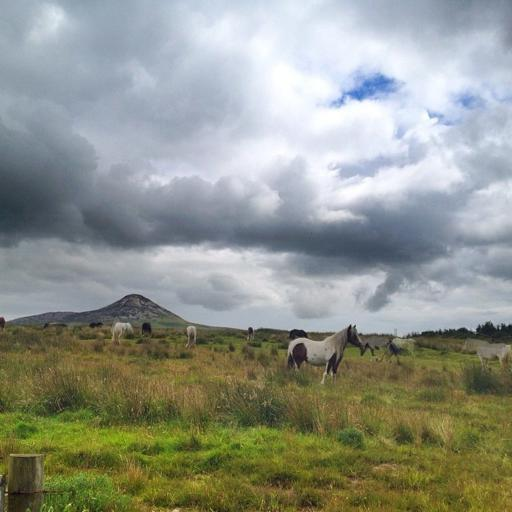horse: (286, 326, 362, 384)
